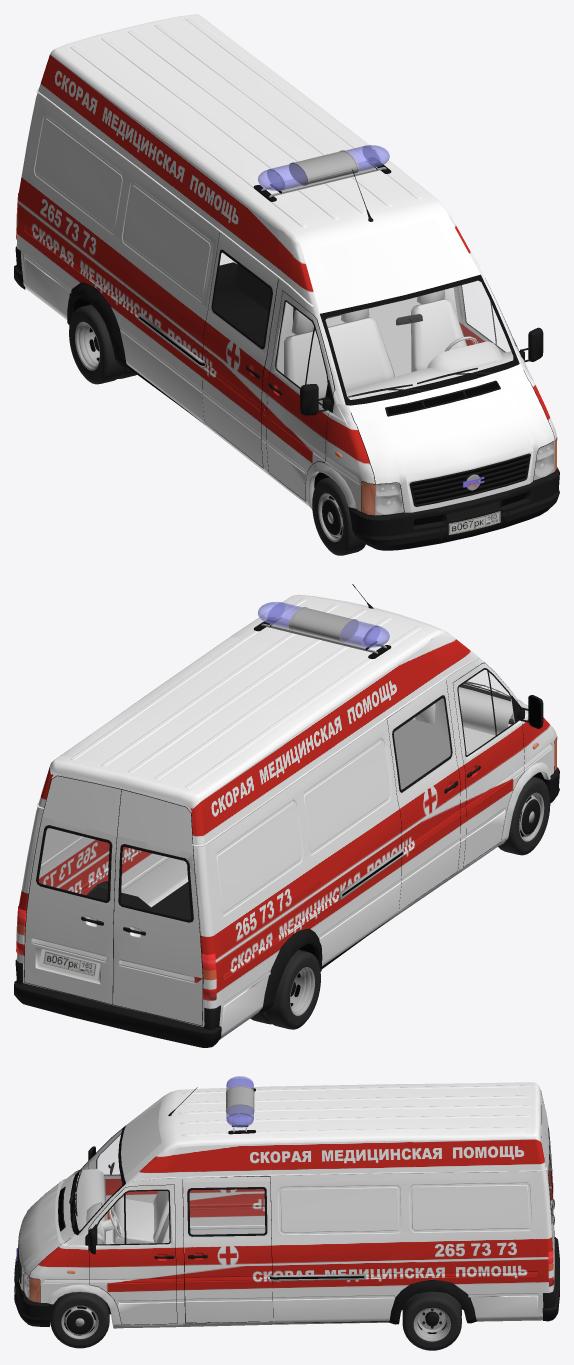
File: ambulance3d.glb
3 renders of one model, top to bottom at view 1: azimuth 30°, elevation 25°; view 2: azimuth 150°, elevation 25°; view 3: azimuth 270°, elevation 25°, orthographic. The views are drawn at different scales.
Visible parts, largest first — view 1: 3DSMeshMatrix (×20); view 2: 3DSMeshMatrix (×19); view 3: 3DSMeshMatrix (×20).
Part boxes in pixels (bbox=[...]): 3DSMeshMatrix (×20): bbox=[14, 14, 559, 555]; 3DSMeshMatrix (×19): bbox=[14, 584, 559, 1047]; 3DSMeshMatrix (×20): bbox=[14, 1078, 559, 1350].
Bounding box in the file's own units: 59.98 × 71.55 × 157.
Materials: 22 (3 with a texture image).
